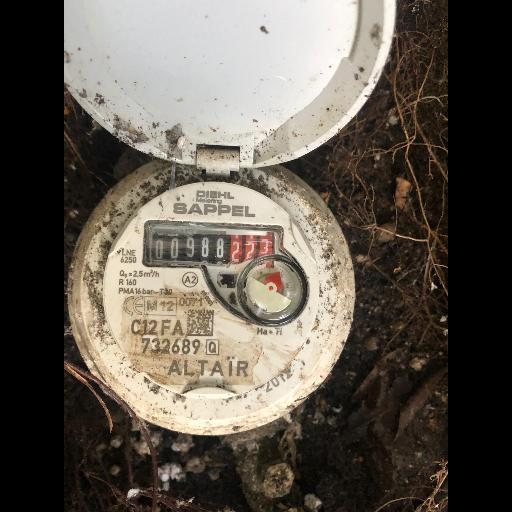0: (152, 232, 169, 261), (167, 233, 184, 262)
2: (228, 235, 243, 265), (242, 235, 257, 264)
3: (256, 236, 273, 259)
8: (212, 234, 228, 265), (197, 234, 213, 264)
9: (183, 233, 200, 262)
border_water_meter_number: (142, 220, 284, 272)
